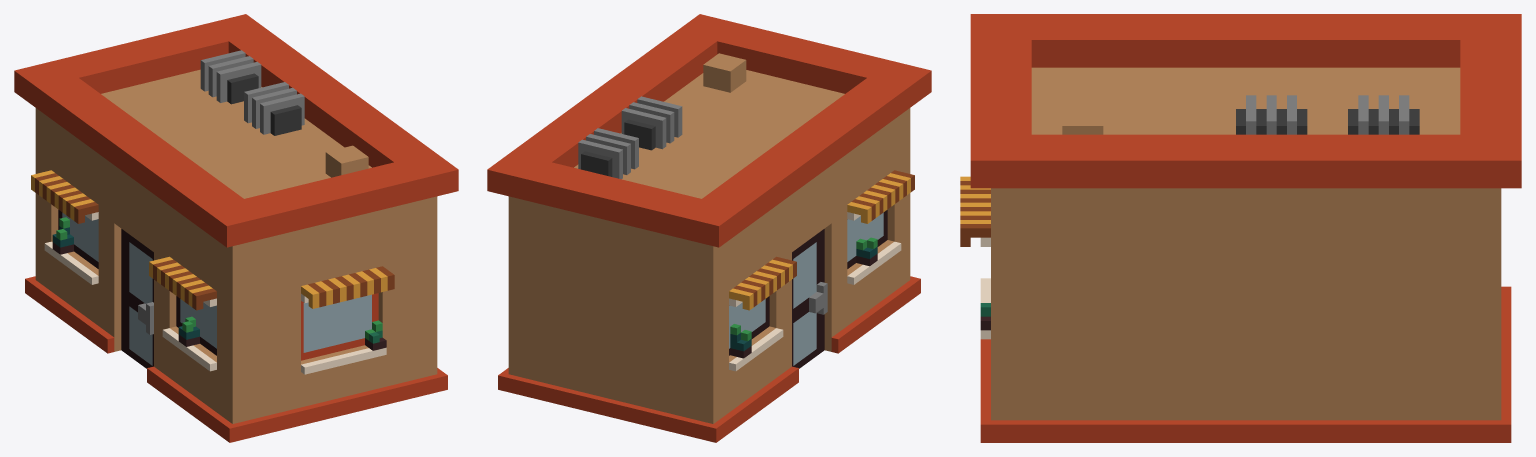
The model's file is Buildings Final For Import-14.obj.
The picture shows the model from 3 angles, left to right: view 1: azimuth 30°, elevation 25°; view 2: azimuth 150°, elevation 25°; view 3: azimuth 270°, elevation 25°; orthographic projection. The views are drawn at different scales.
Size of the model in its own units: 3.5 by 3.2 by 5.5.
1 material, 1 textured.
